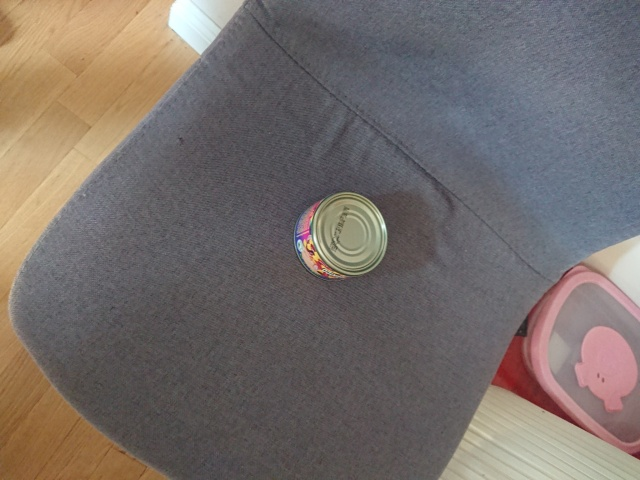Giana Tuna Salad Mexico 185g: (290, 190, 391, 285)
